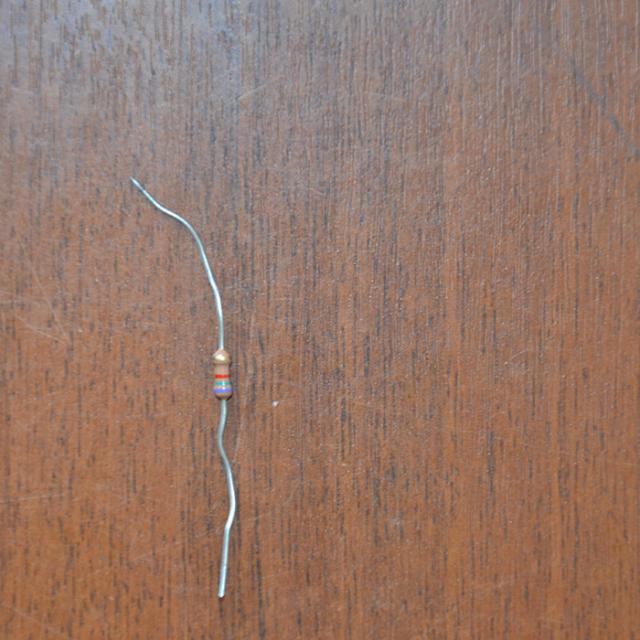gold: (212, 356, 229, 362)
green: (215, 381, 230, 386)
red: (213, 373, 229, 379)
resistor: (202, 344, 244, 409)
violet: (214, 389, 231, 393)
